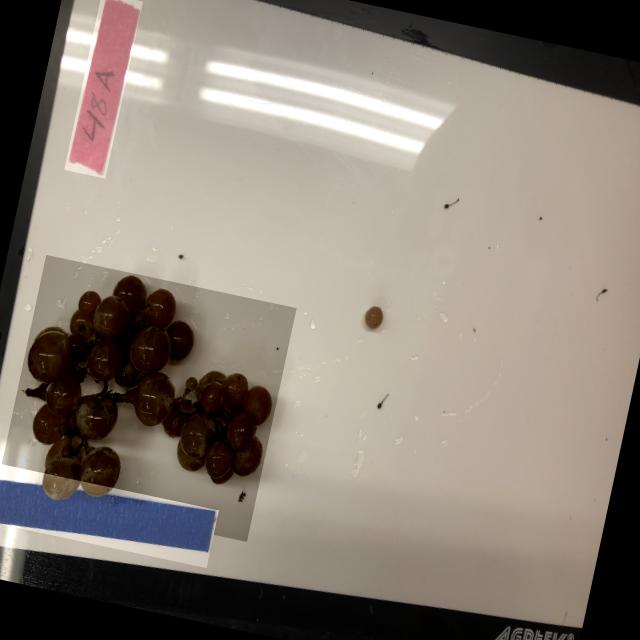grape_cluster: (0, 253, 296, 540)
index: (64, 0, 143, 177)
measure_label: (0, 461, 218, 566)
